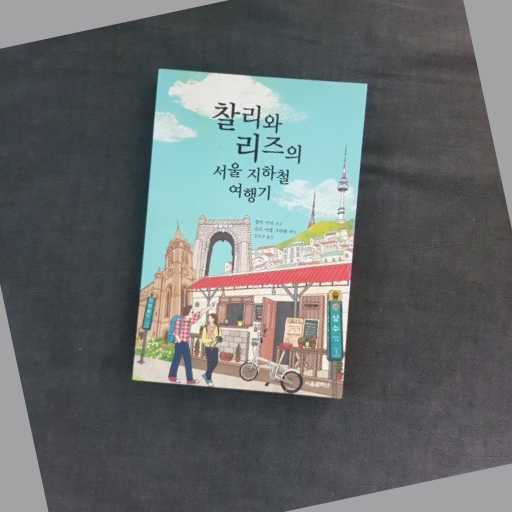Paper_0: (127, 62, 362, 408)
